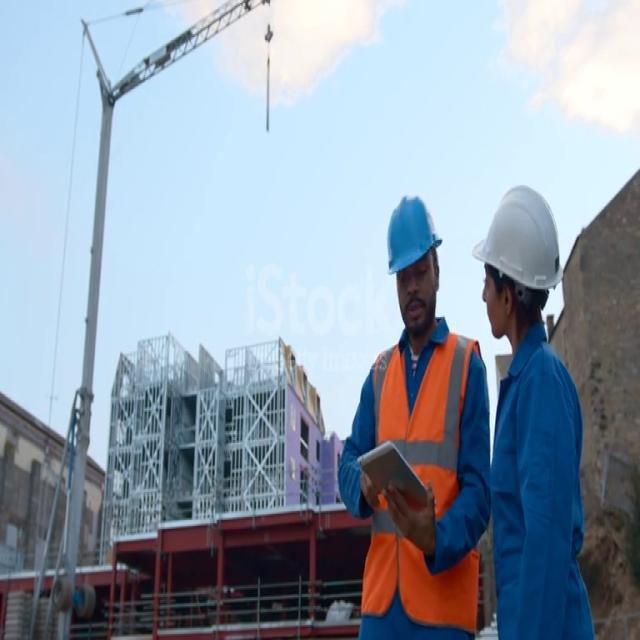capacete: (470, 165, 568, 324), (376, 182, 450, 306)
